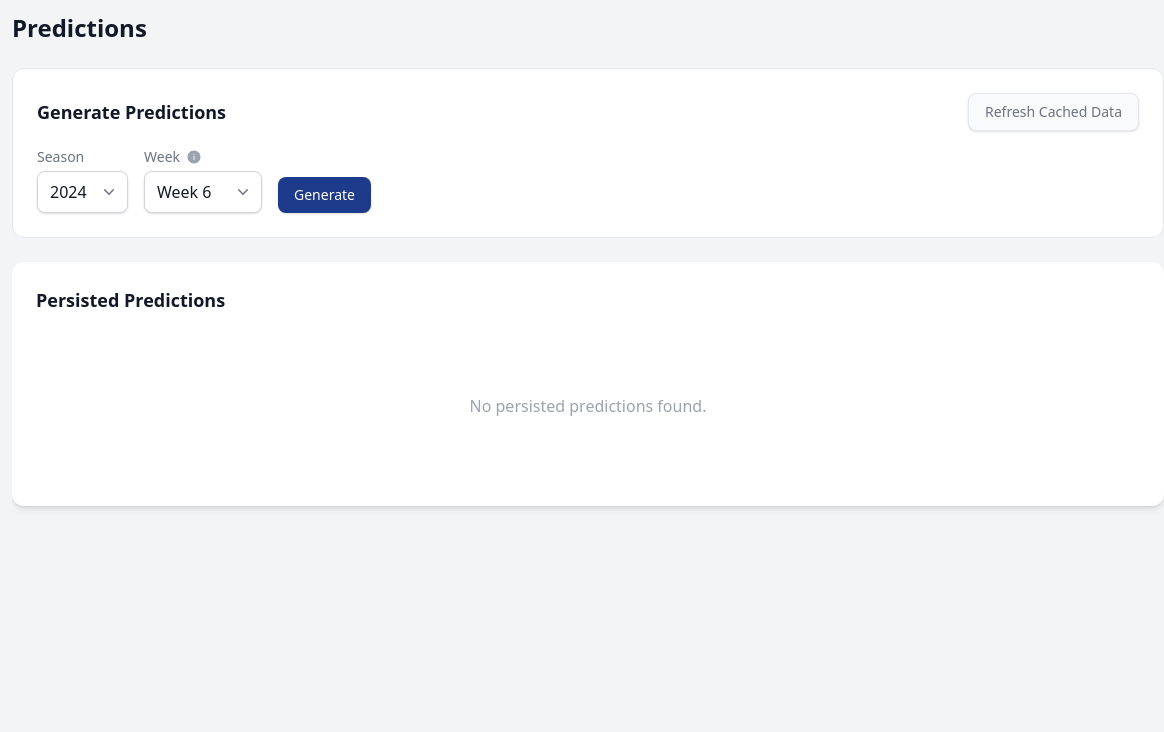
Test: PredictionsPage › shows error alert on calculate failure
What coordinates should you click on to do the following:
click the button "Generate"
I would click on:
 (324, 195)
Its box is [278,177,371,213].
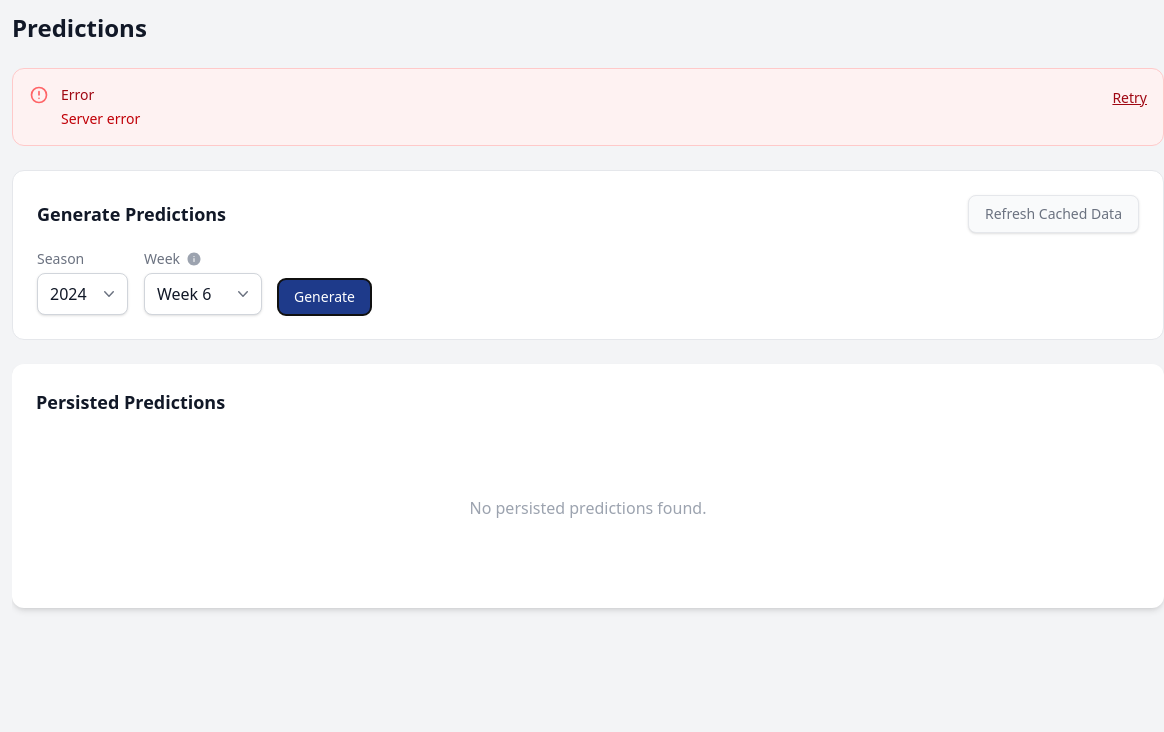
Now the text "Server error" is shown, box [61,109,140,128]
